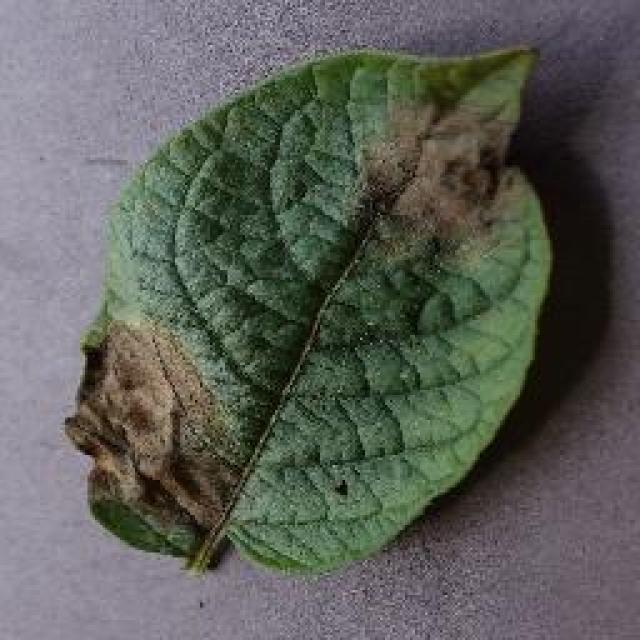late_blight: (62, 40, 558, 580)
